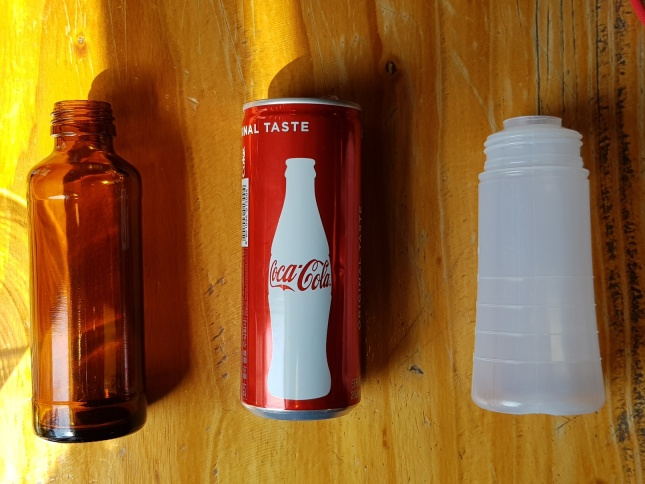Can: (235, 95, 364, 423)
Glass: (19, 95, 150, 444)
Plastic: (465, 111, 610, 418)
